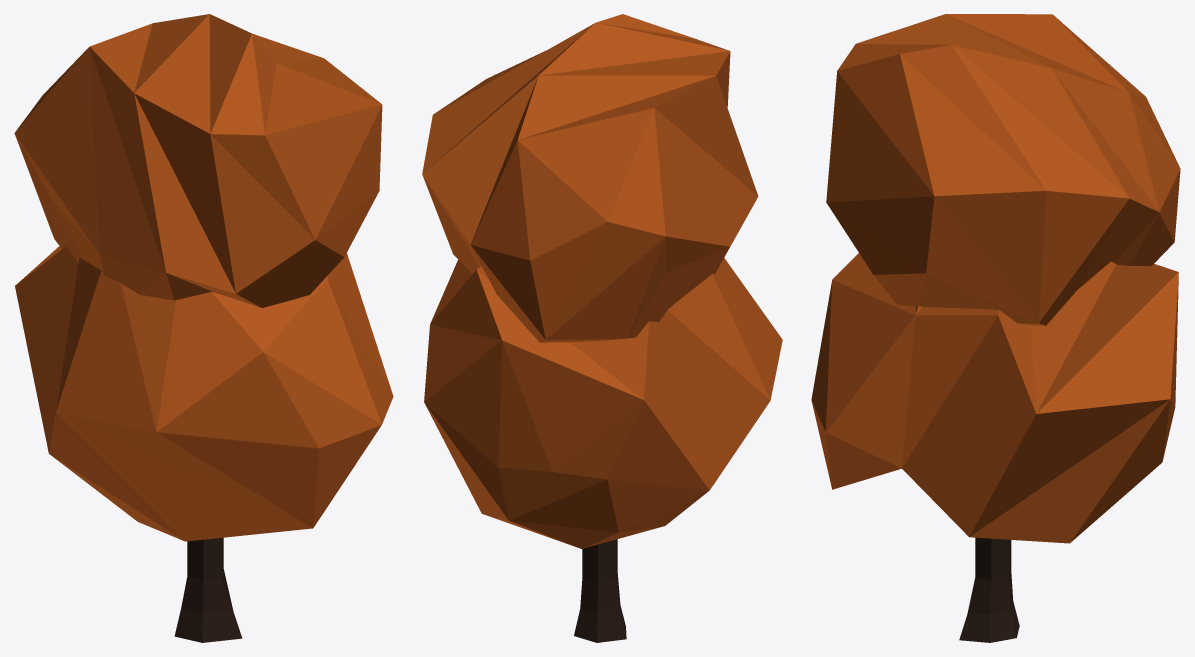
Rendered from Tree16.fbx.
3 views of the same model, side by side, from view 1: azimuth 30°, elevation 25°; view 2: azimuth 150°, elevation 25°; view 3: azimuth 270°, elevation 25° (orthographic). The views are drawn at different scales.
Parts seen in each view (by area): view 1: TreeOrange01; view 2: TreeOrange01; view 3: TreeOrange01.
Part boxes in pixels (x1=…): TreeOrange01: x1=14, y1=14, x2=393, y2=642; TreeOrange01: x1=422, y1=14, x2=782, y2=642; TreeOrange01: x1=811, y1=14, x2=1180, y2=642.
Size of the model in its own units: 0.9318 by 1.71 by 0.954.
